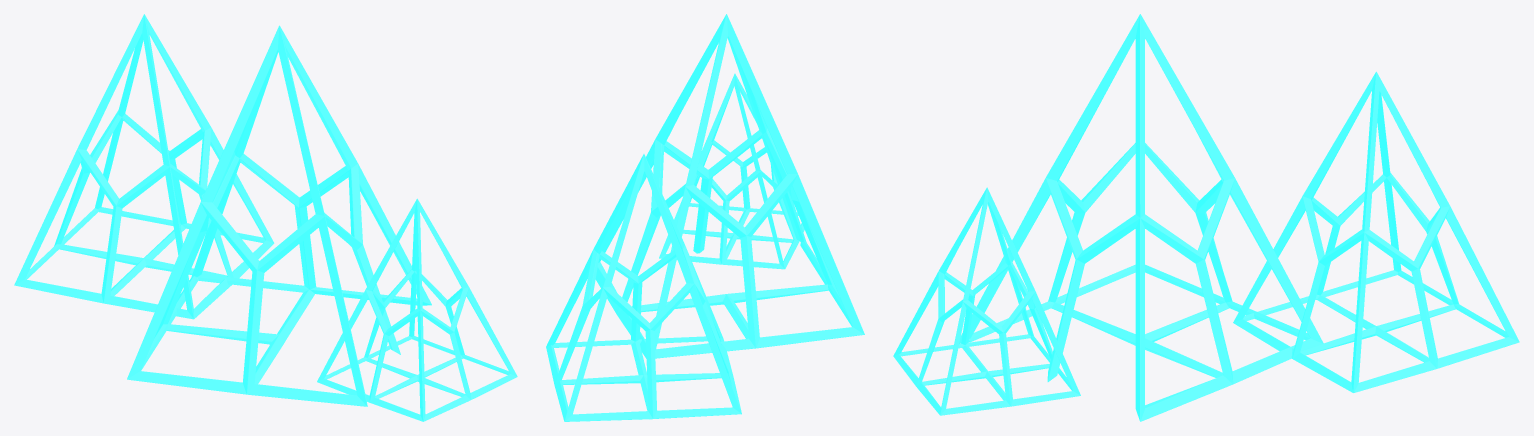
Rendered from Env_MountanS_03.fbx.
3 renders of one model, left to right at view 1: azimuth 30°, elevation 25°; view 2: azimuth 150°, elevation 25°; view 3: azimuth 270°, elevation 25°, orthographic. The views are drawn at different scales.
Parts seen in each view (by area): view 1: Env_MountanS_03.002; view 2: Env_MountanS_03.002; view 3: Env_MountanS_03.002.
Boxes of the visible parts, x1,y1,x2,y2 form: Env_MountanS_03.002: (14,14,517,421); Env_MountanS_03.002: (546,14,864,421); Env_MountanS_03.002: (893,14,1519,421).
Size of the model in its own units: 82.44 by 82.64 by 141.
